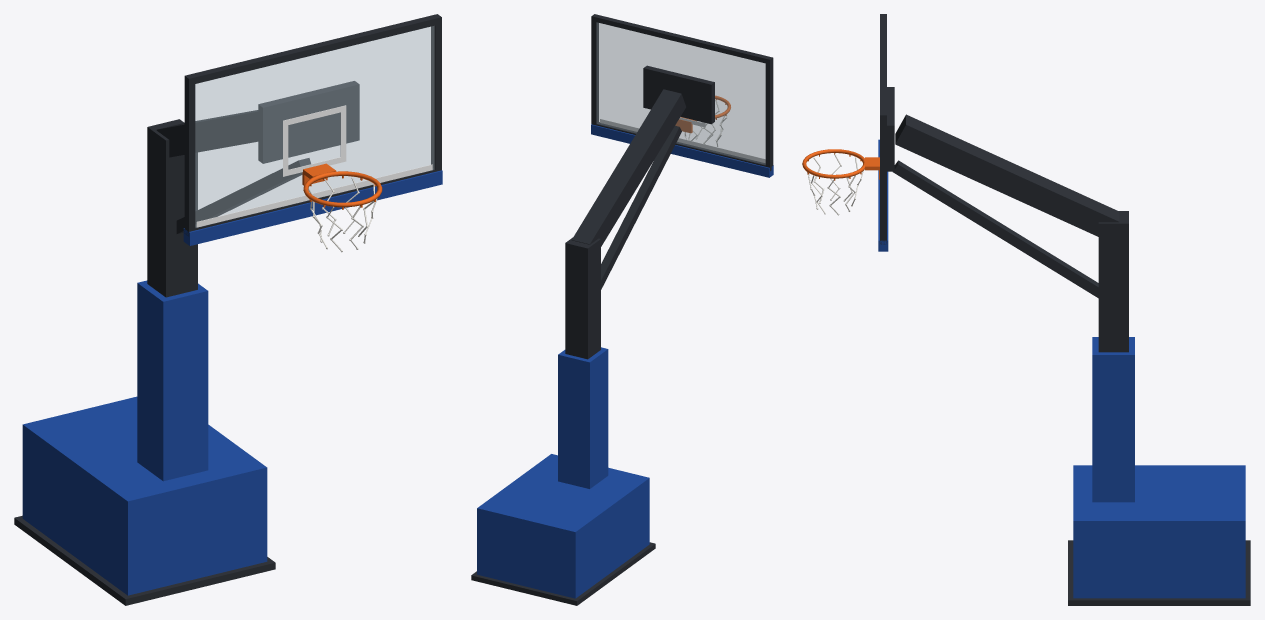
File: hoop_standard.glb
3 views of the same model, side by side, from view 1: azimuth 30°, elevation 25°; view 2: azimuth 150°, elevation 25°; view 3: azimuth 270°, elevation 25° (orthographic). The views are drawn at different scales.
Parts seen in each view (by area): view 1: stanchion_mesh, backboard_mesh, rim_mesh; view 2: stanchion_mesh, backboard_mesh; view 3: stanchion_mesh, backboard_mesh, rim_mesh.
Boxes of the visible parts, bbox=[...] form: stanchion_mesh: bbox=[14, 81, 442, 605]; backboard_mesh: bbox=[184, 14, 441, 236]; rim_mesh: bbox=[302, 163, 382, 209]; stanchion_mesh: bbox=[471, 65, 773, 605]; backboard_mesh: bbox=[591, 14, 773, 171]; stanchion_mesh: bbox=[878, 87, 1250, 605]; backboard_mesh: bbox=[880, 14, 886, 244]; rim_mesh: bbox=[802, 149, 879, 180].
Size of the model in its own units: 2.36 by 5.56 by 4.42.
